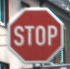stopsign: (7, 7, 65, 64)
